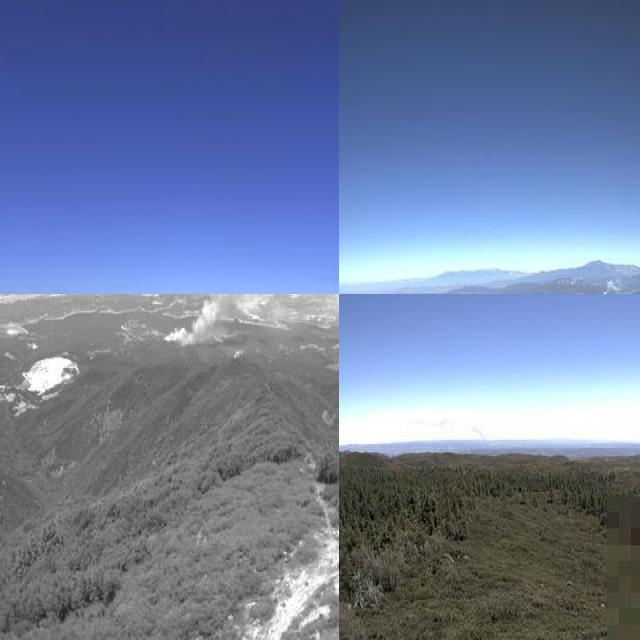smoke: (155, 294, 339, 349), (587, 268, 635, 294), (464, 424, 491, 451)
